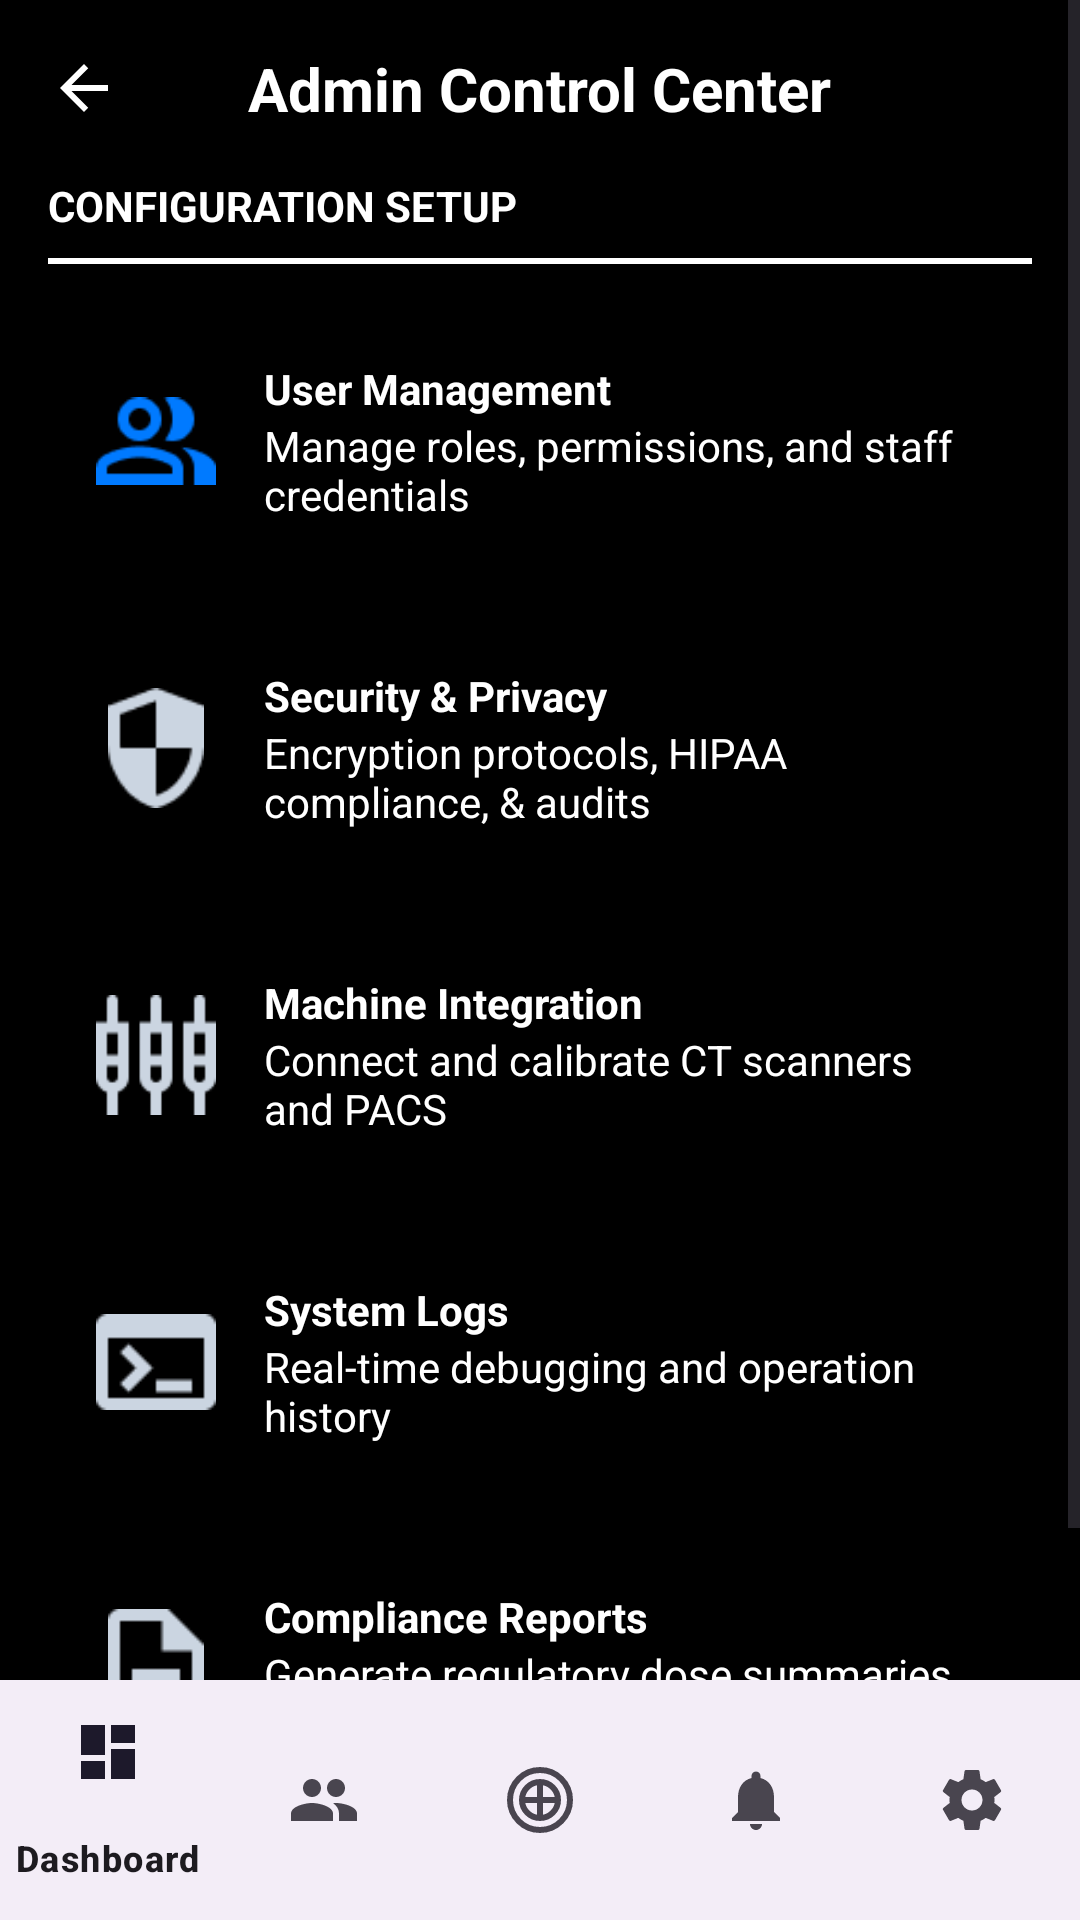

Icon bounding boxes for this 1080px x 1920px phone screenshot, format [x1,y1,x2,y2]:
arrow back: [60,64,108,112]
